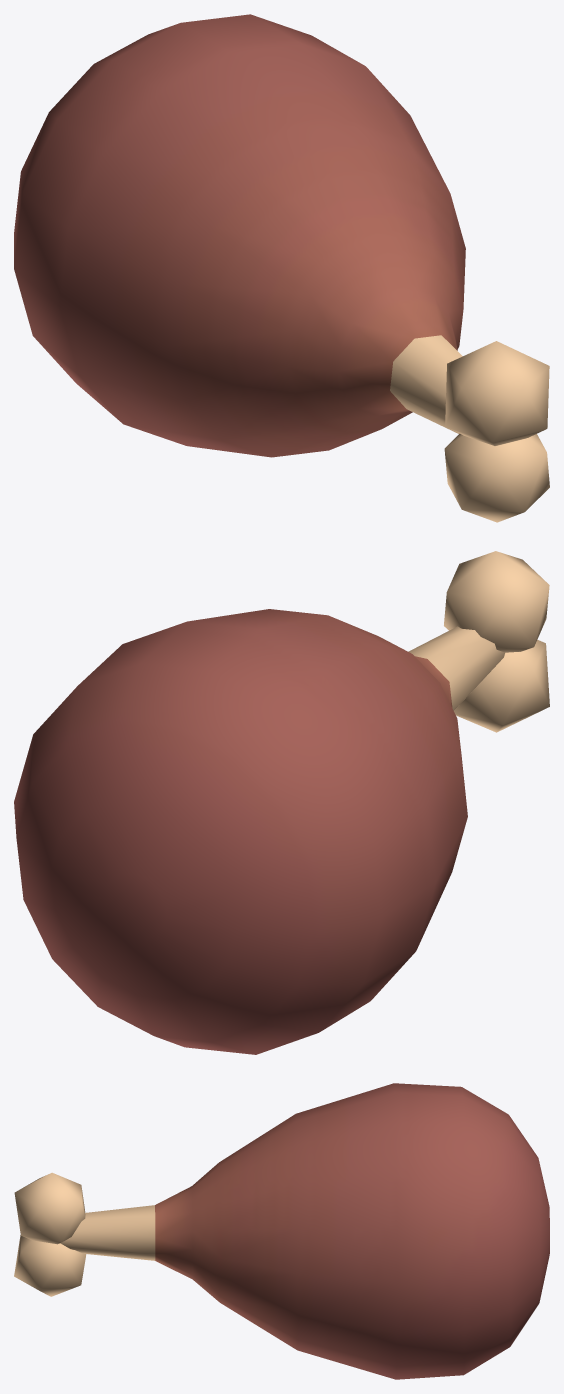
File: Chicken Leg Piece.fbx
3 renders of one model, top to bottom at view 1: azimuth 30°, elevation 25°; view 2: azimuth 150°, elevation 25°; view 3: azimuth 270°, elevation 25°, orthographic. The views are drawn at different scales.
Parts seen in each view (by area): view 1: Chicken Leg Piece; view 2: Chicken Leg Piece; view 3: Chicken Leg Piece.
Boxes of the visible parts, bbox=[...] form: Chicken Leg Piece: bbox=[14, 14, 549, 522]; Chicken Leg Piece: bbox=[14, 551, 549, 1054]; Chicken Leg Piece: bbox=[14, 1083, 549, 1379].
Size of the model in its own units: 16.49 by 16.49 by 29.87.
